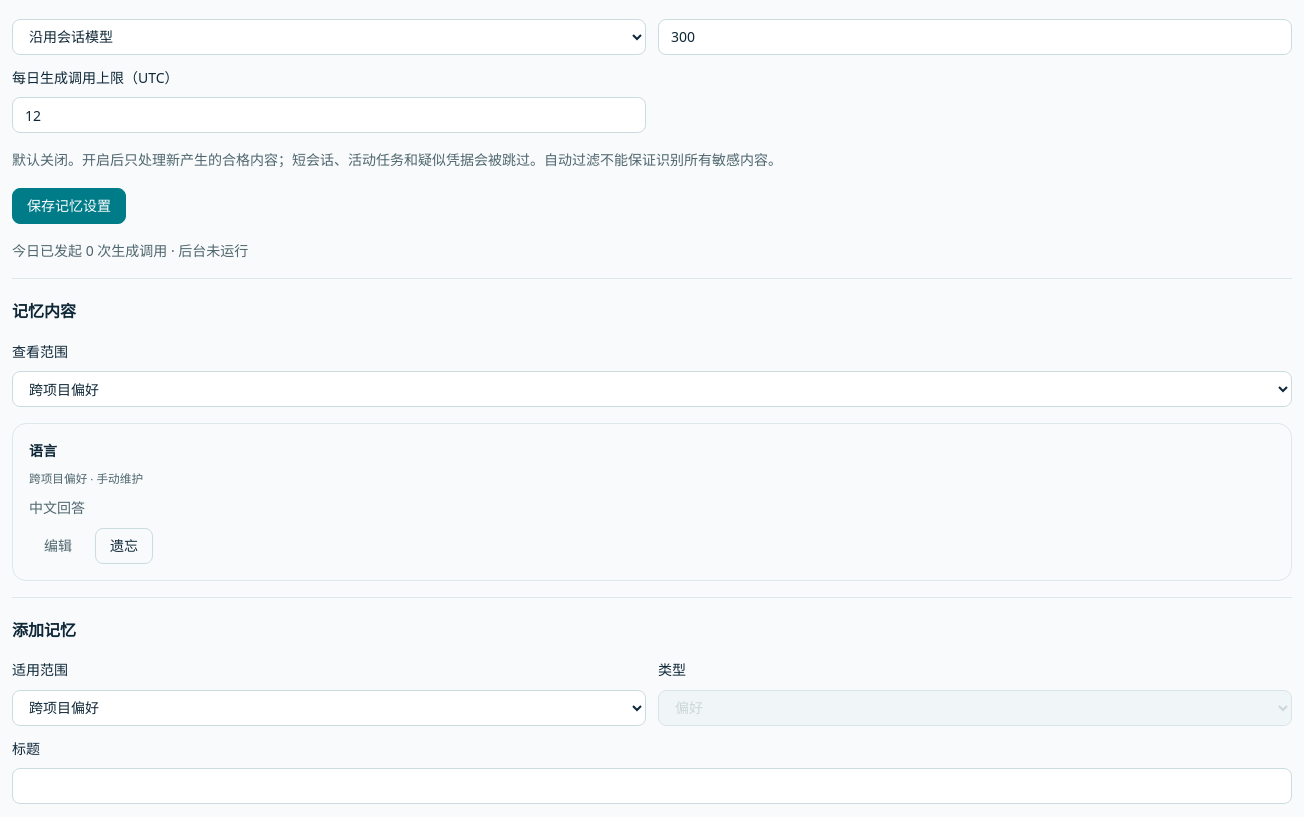
本机记忆设置 › 项目切换清空旧内容，版本冲突可见，卸载取消请求
The image size is (1304, 817).
(page scrolled)
Step 1. Select "项目甲（含跨项目偏好）" in the dropdown labelled "查看范围" → (652, 389), box [12,371,1292,407]
(page scrolled)
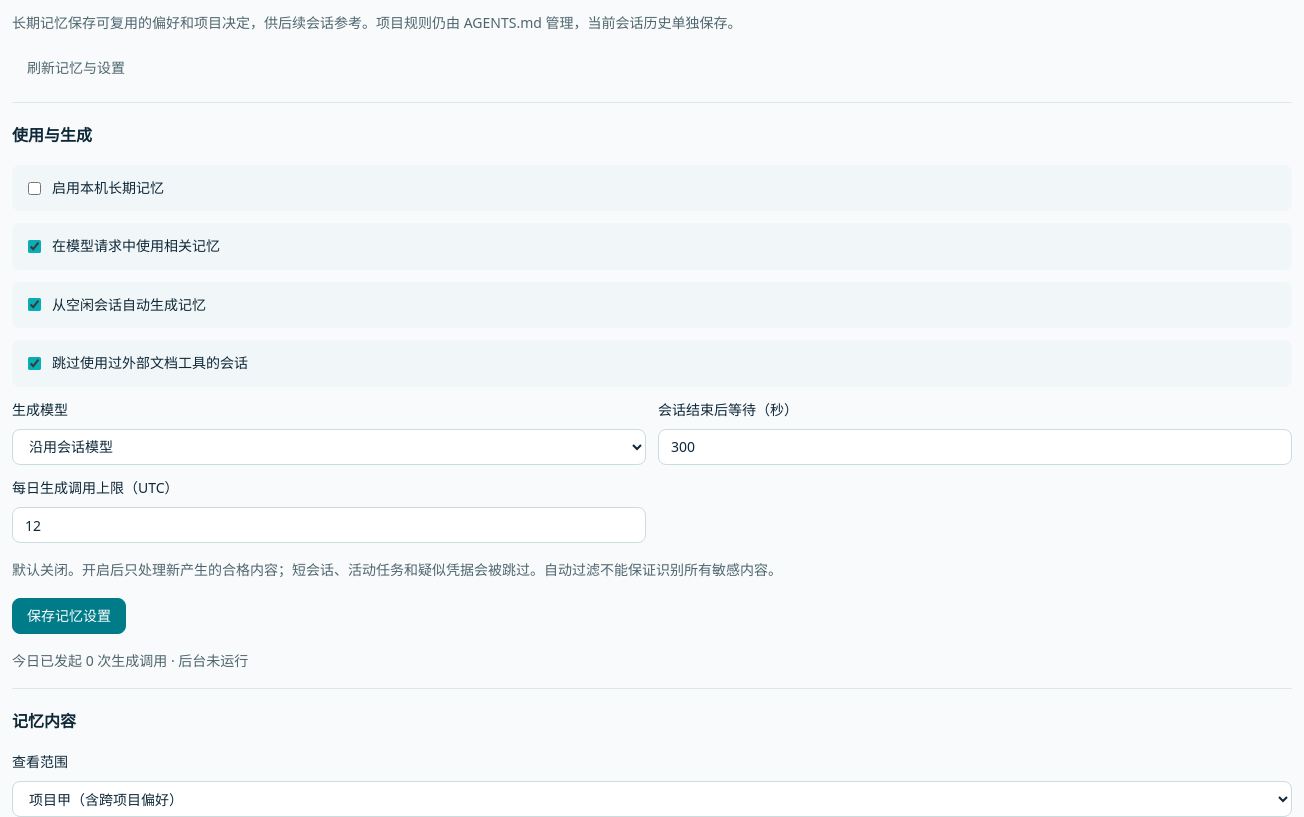
Step 2. Submit the form that starts with "使用与生成"
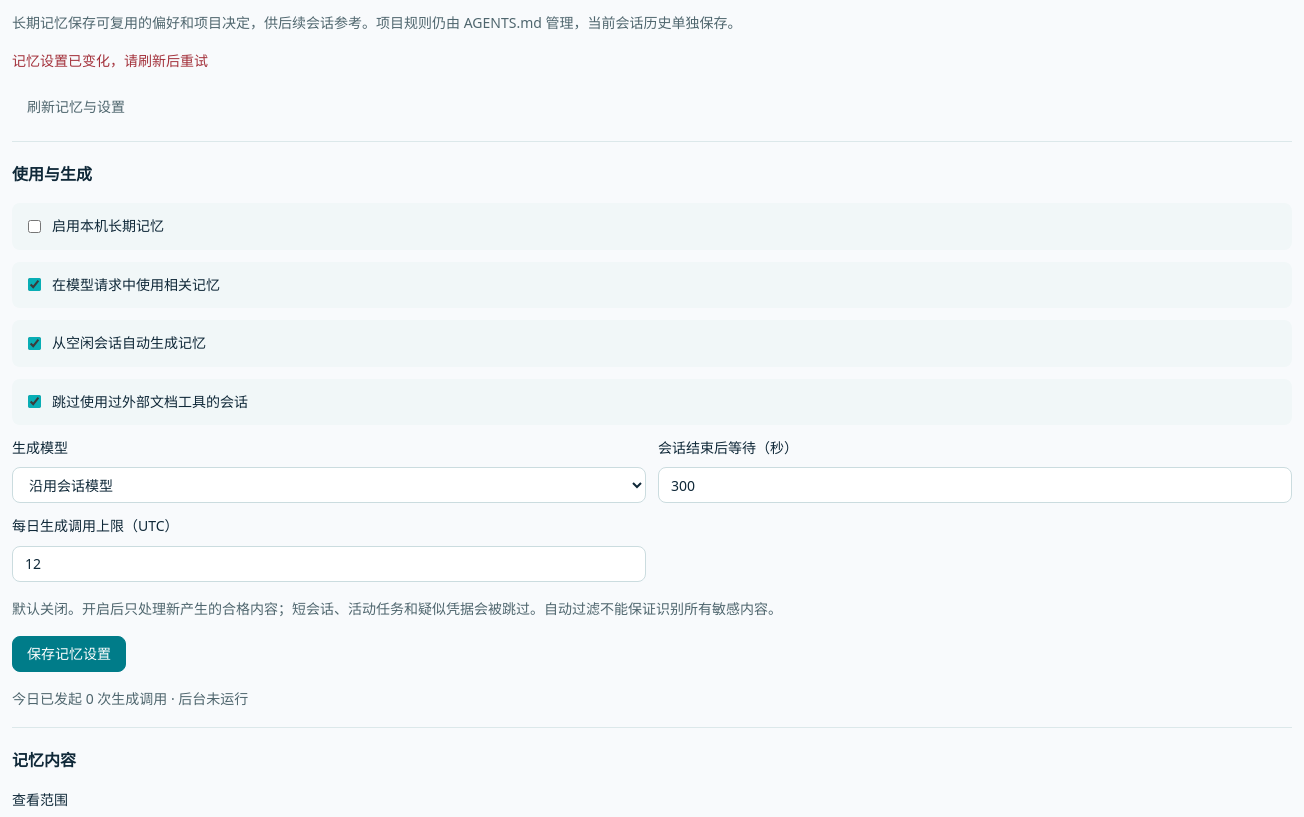
Expected: the message "记忆设置已变化，请刷新后重试" is shown, [12,51,208,70]
